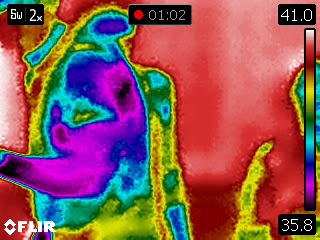human: (1, 1, 193, 239), (234, 54, 320, 240)
